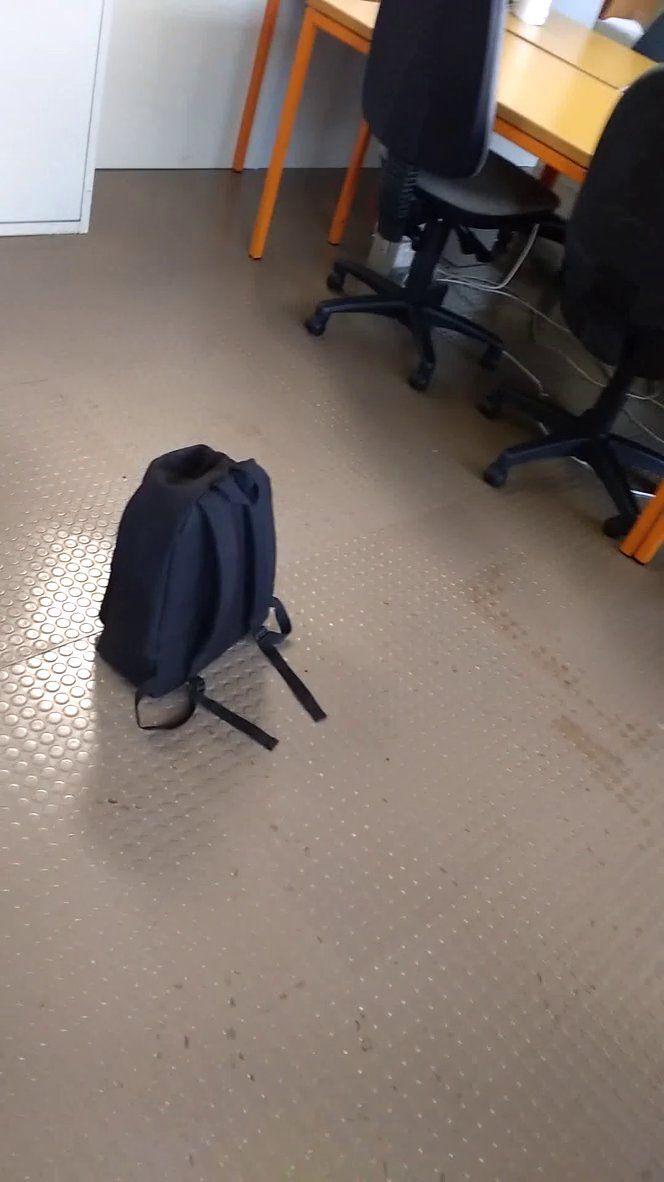bag: (87, 434, 346, 764)
chair: (313, 1, 568, 381), (524, 50, 664, 533)
